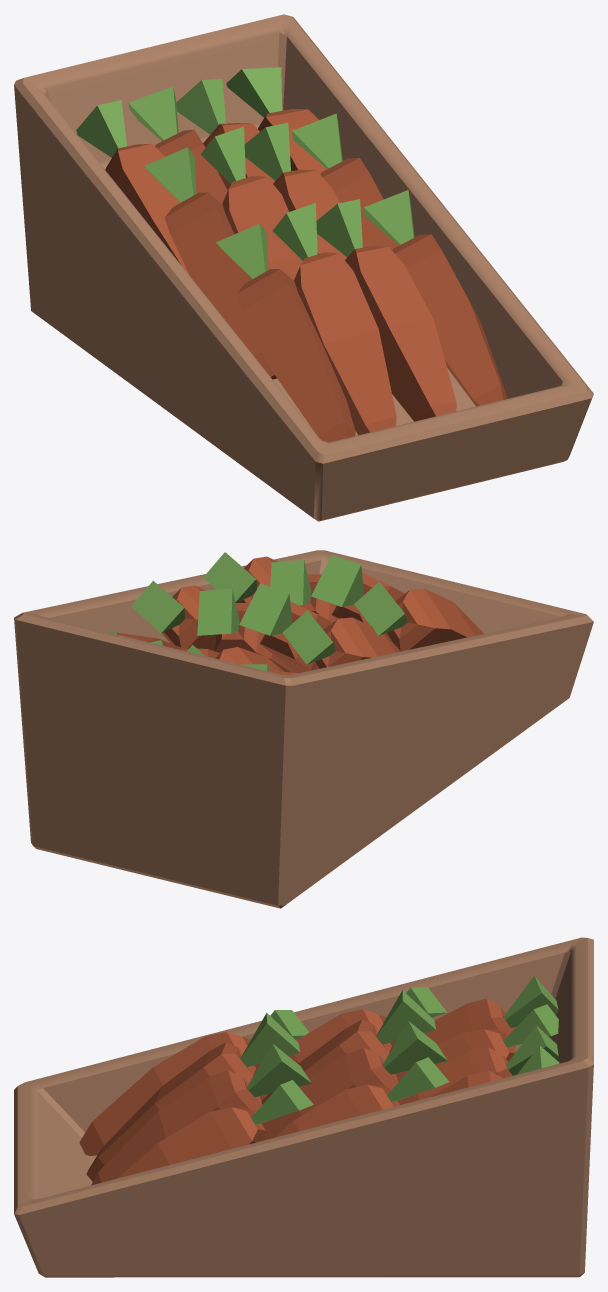
Rendered from Carrot bin.fbx.
The picture shows the model from 3 angles, top to bottom: view 1: azimuth 30°, elevation 25°; view 2: azimuth 150°, elevation 25°; view 3: azimuth 270°, elevation 25°; orthographic projection. The views are drawn at different scales.
Visible parts, largest first — view 1: Carrot_bin; view 2: Carrot_bin; view 3: Carrot_bin.
Part boxes in pixels (x1,y1,x2,y2): Carrot_bin: [14, 14, 593, 521]; Carrot_bin: [14, 550, 593, 908]; Carrot_bin: [14, 937, 593, 1277].
Bounding box in the file's own units: 88 × 70.95 × 167.
